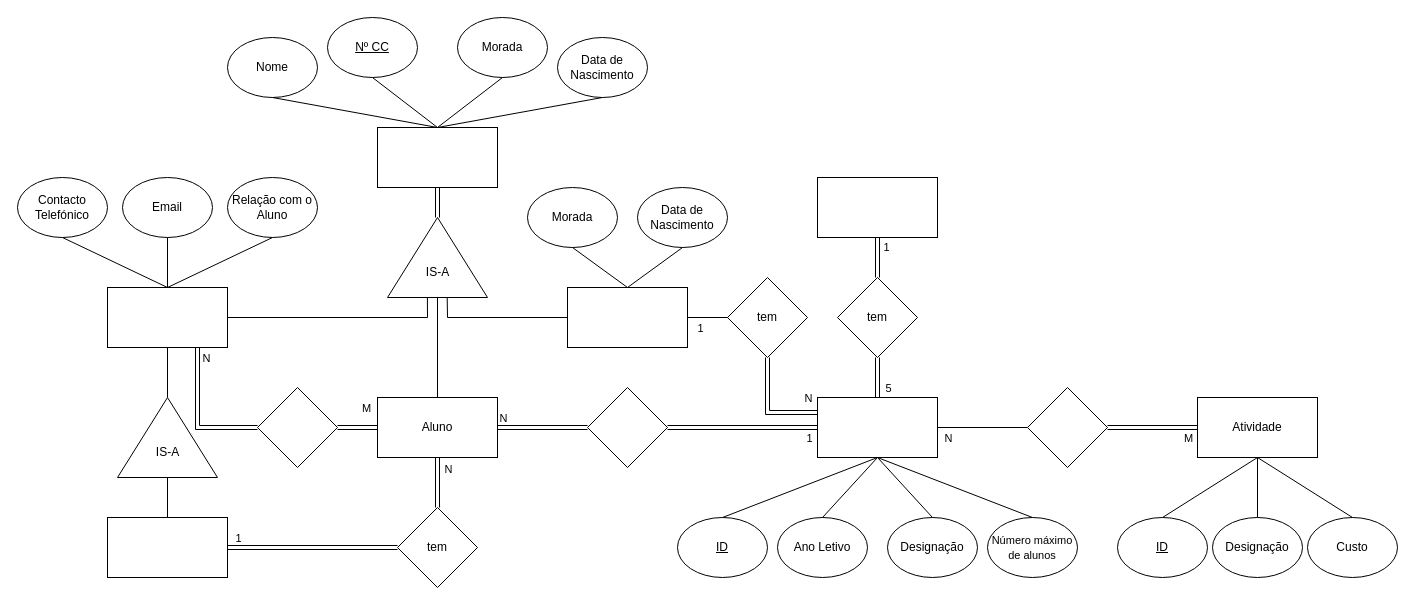
The diagram is 1415 pixels wide and 605 high, and some of its shapes have lost their labels. The shapes that lost their labels are listed below. From the top down, each one's box as (x1, y1, x2, y2) in pixels, then its label:
(376, 126, 498, 188): Pessoa
(816, 176, 938, 238): ATL
(106, 286, 228, 348): Adulto Responsável por Levantamento
(566, 286, 688, 348): Professor
(256, 386, 338, 468): Levanta
(586, 386, 668, 468): Pertence
(816, 396, 938, 458): Turma
(1026, 386, 1108, 468): Realiza
(106, 516, 228, 578): Encarregado de Educação
